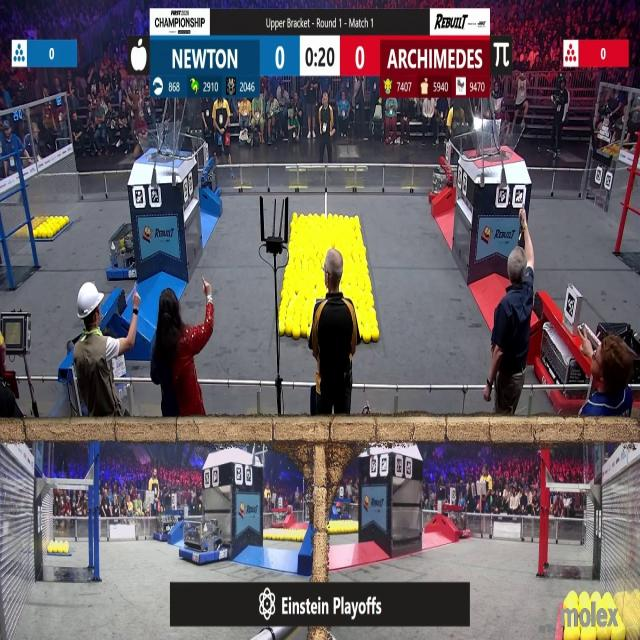ball_ground: (280, 323, 286, 335), (592, 593, 600, 602), (64, 216, 69, 225), (56, 224, 60, 232), (136, 306, 139, 311)
goal: (468, 124, 524, 162), (138, 132, 192, 159)
robot_blue: (181, 516, 230, 566), (110, 230, 140, 280), (193, 170, 220, 200), (153, 515, 179, 541)
robot_red: (538, 341, 592, 413), (432, 168, 455, 208), (449, 514, 470, 538)
